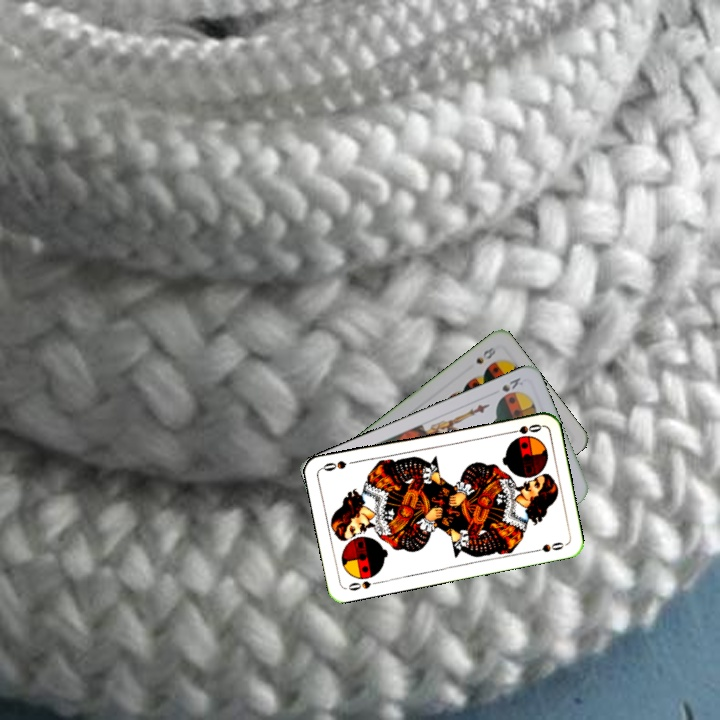S8: (472, 343, 498, 367)
SK: (498, 373, 526, 394)
SO: (504, 420, 544, 440), (344, 577, 383, 593)
